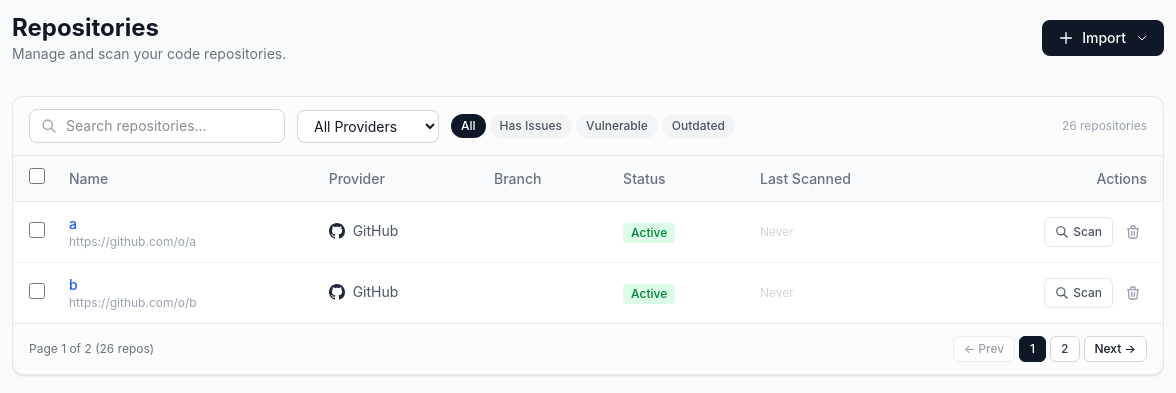
Test: Repositories › clears selection on page change
Step 1. Click the checkbox named "Select a" → (37, 230), box x1=29 y1=222 x2=45 y2=238
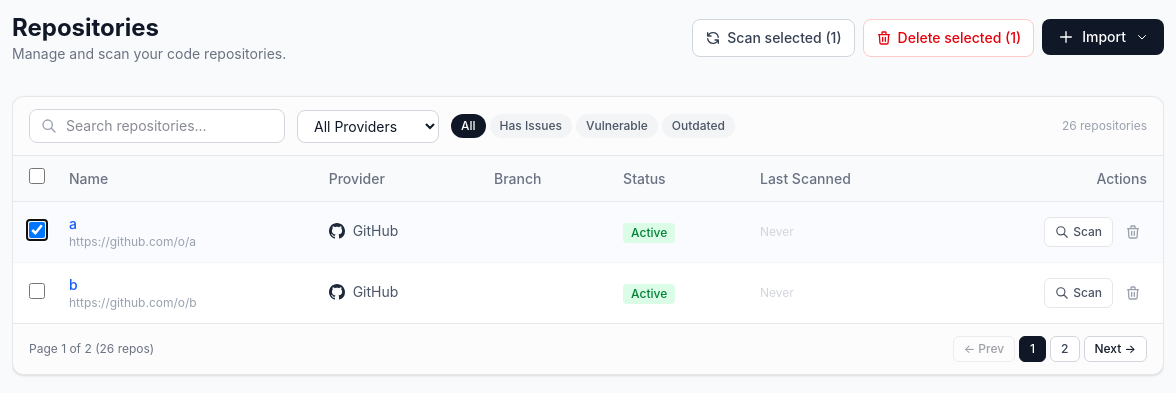
Expected: the button "Delete selected (1)" is shown, x1=863 y1=19 x2=1034 y2=57
Step 2. Click the button named "Page 2" → (1065, 349), box x1=1050 y1=336 x2=1080 y2=362
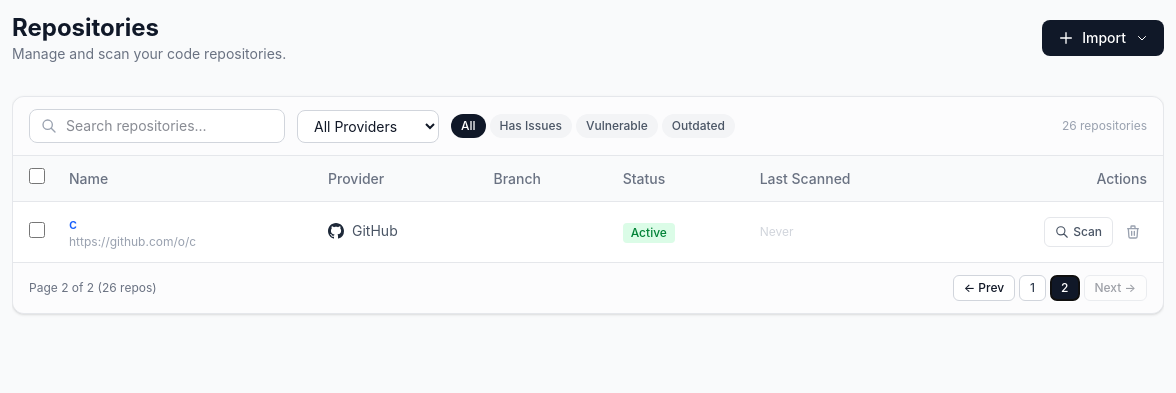
Expected: the link "c" is shown, x1=69 y1=215 x2=77 y2=232
Expected: the button "Delete selected" is gone
